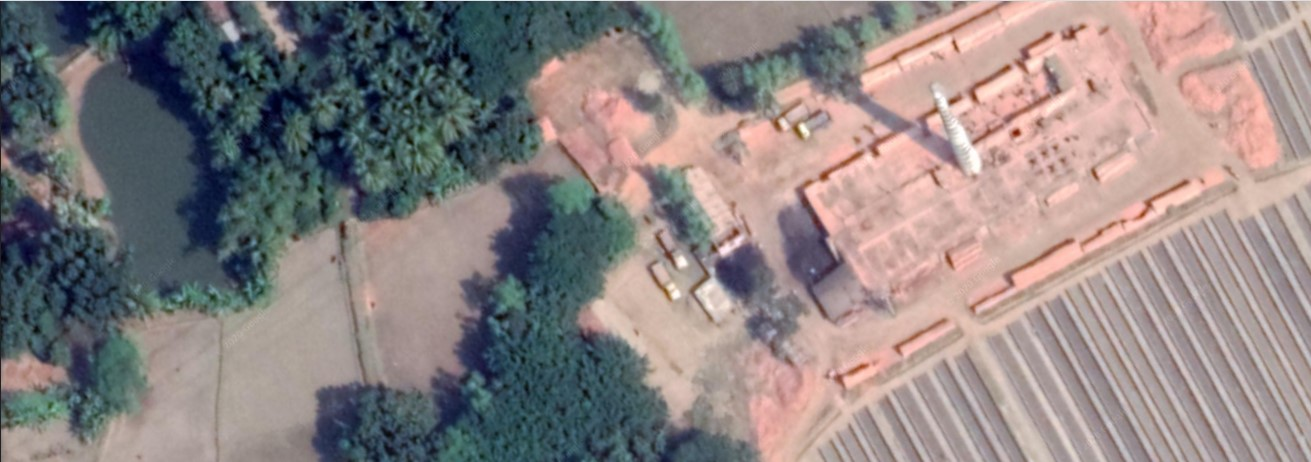kiln: (836, 70, 1155, 240)
